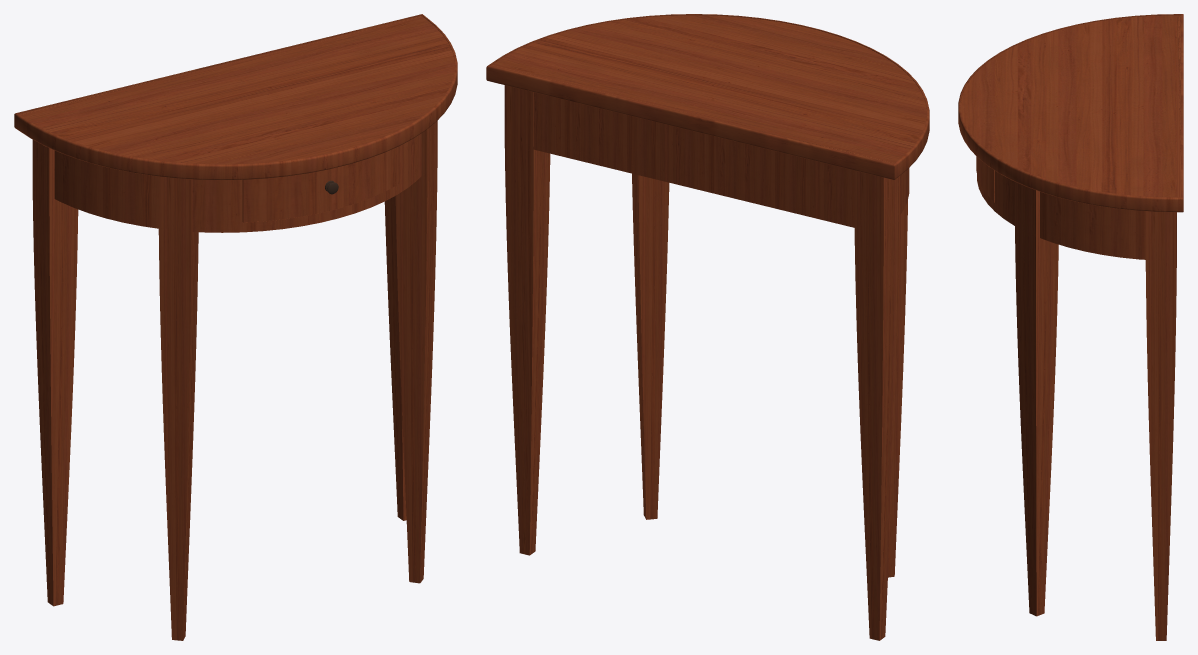
File: storage.glb
3 views of the same model, side by side, from view 1: azimuth 30°, elevation 25°; view 2: azimuth 150°, elevation 25°; view 3: azimuth 270°, elevation 25° (orthographic). The views are drawn at different scales.
Parts seen in each view (by area): view 1: Cabinet_001; view 2: Cabinet_001; view 3: Cabinet_001.
Boxes of the visible parts, x1,y1,x2,y2 form: Cabinet_001: (14,14,457,640); Cabinet_001: (486,14,929,640); Cabinet_001: (958,14,1183,640).
Bounding box in the file's own units: 70 × 80 × 36.06.
2 materials, 1 textured.
